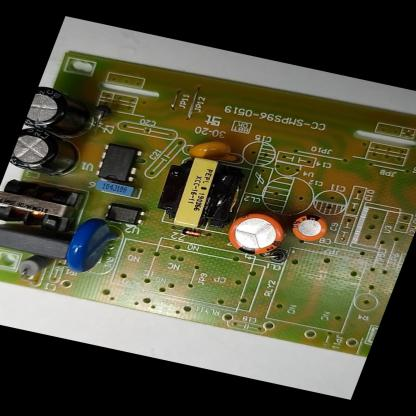Cap1: (220, 209, 293, 260)
Cap2: (286, 211, 333, 245)
Cap3: (7, 124, 90, 183)
Cap4: (23, 84, 100, 140)
MOSFET: (90, 141, 144, 187)
Mov: (58, 214, 127, 280)
Resistor: (14, 252, 59, 282)
Transformer: (148, 149, 248, 235), (0, 174, 84, 236)
